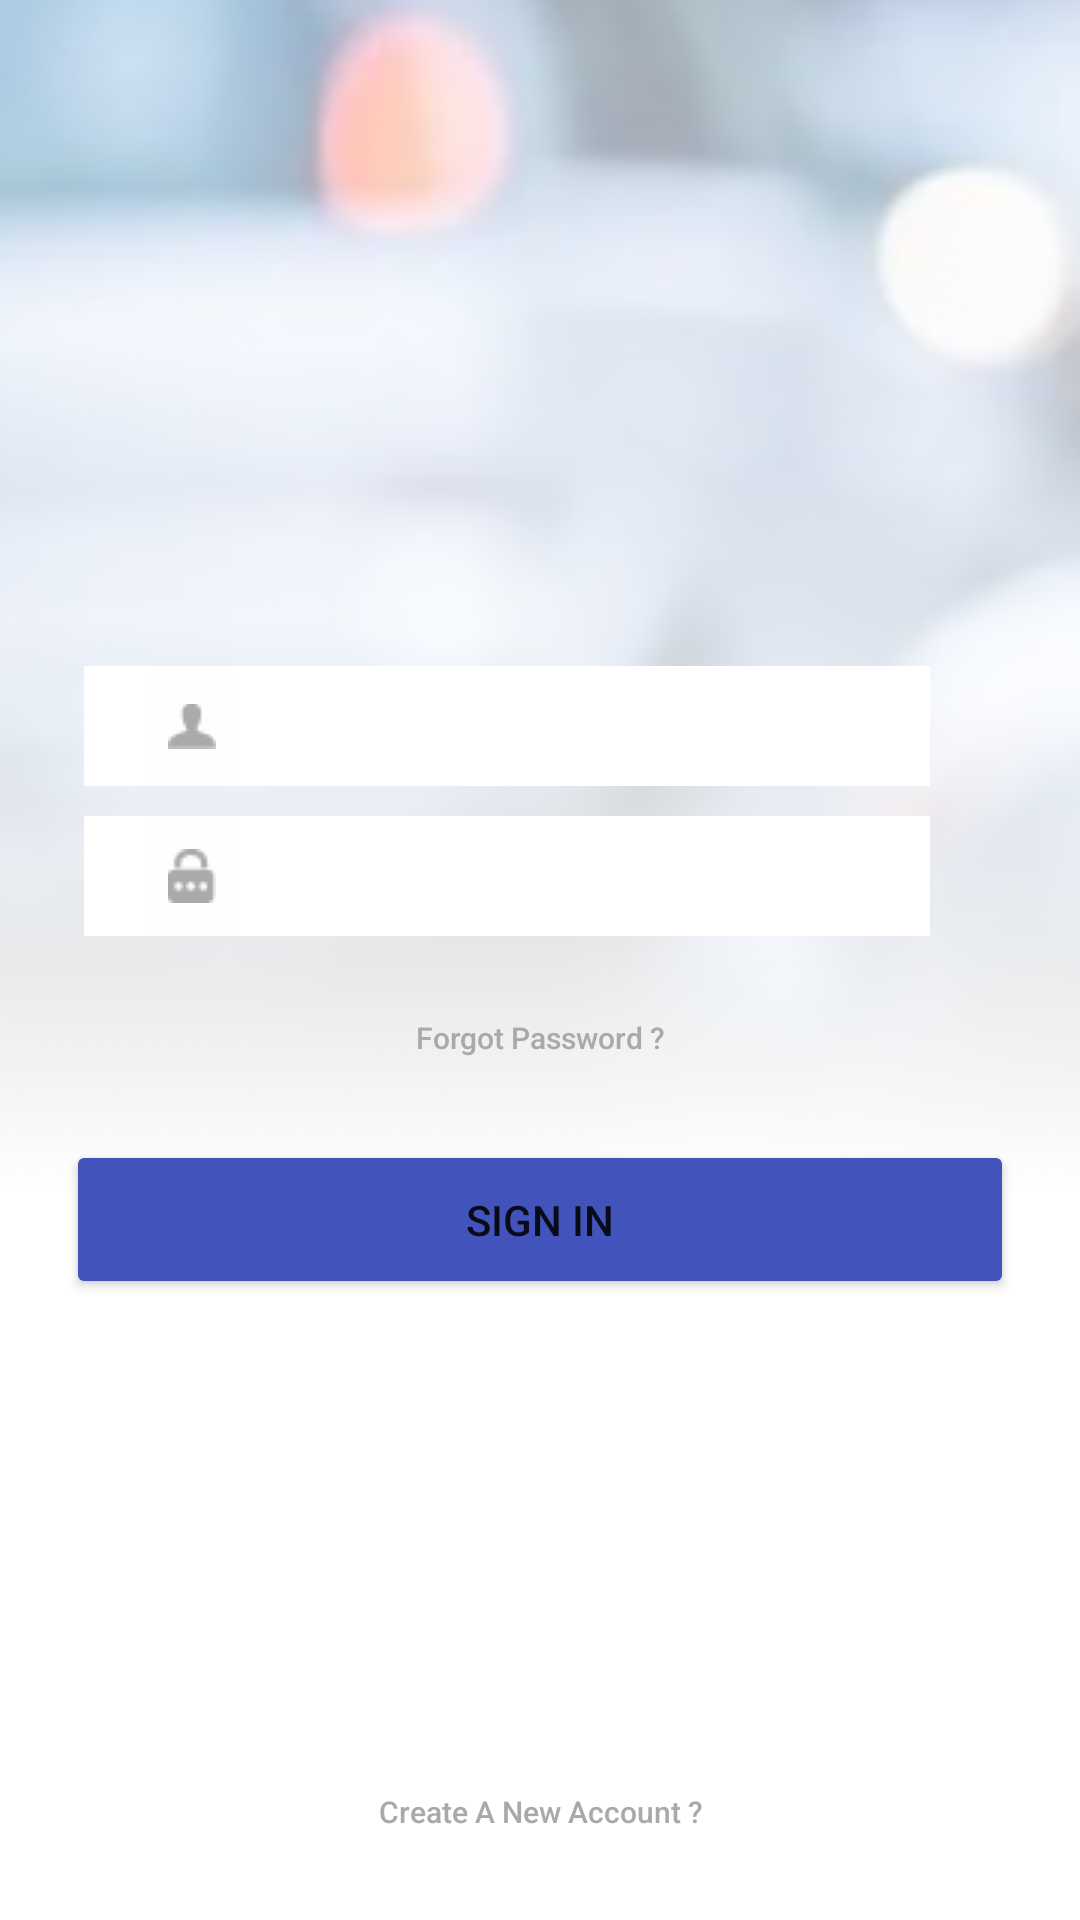

Point at icon controls on the screen. Image size 1080 x 1920, points as (x,y).
lock: (191,876)
